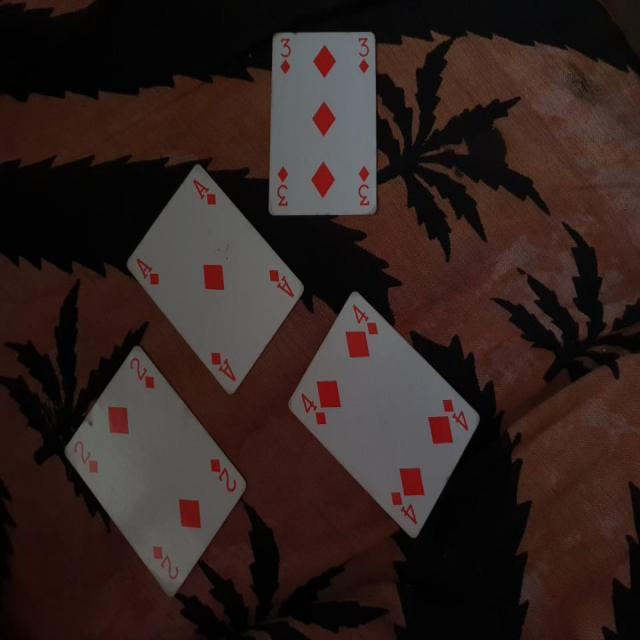2 of diamonds: (61, 341, 249, 616)
3 of diamonds: (268, 28, 381, 217)
4 of diamonds: (286, 290, 480, 546)
ace of diamonds: (120, 157, 304, 400)
